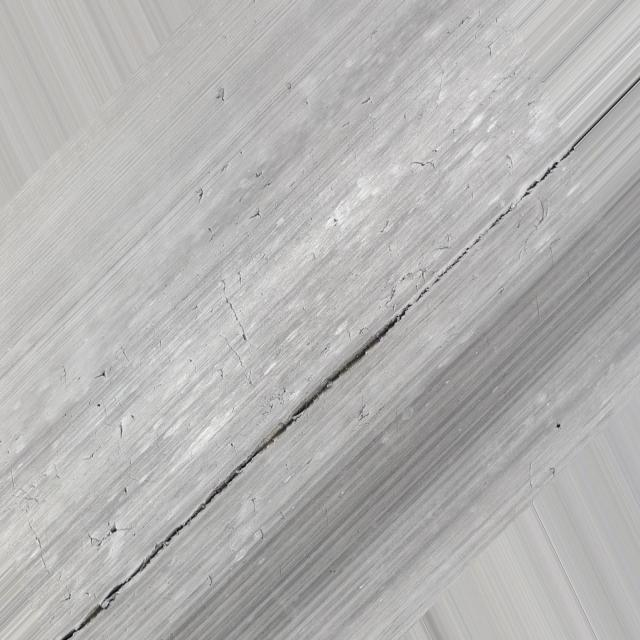Puncture: (85, 356, 116, 386), (193, 176, 213, 206), (94, 395, 106, 415), (108, 523, 120, 535), (124, 488, 126, 494)
Tear: (59, 164, 558, 640)
